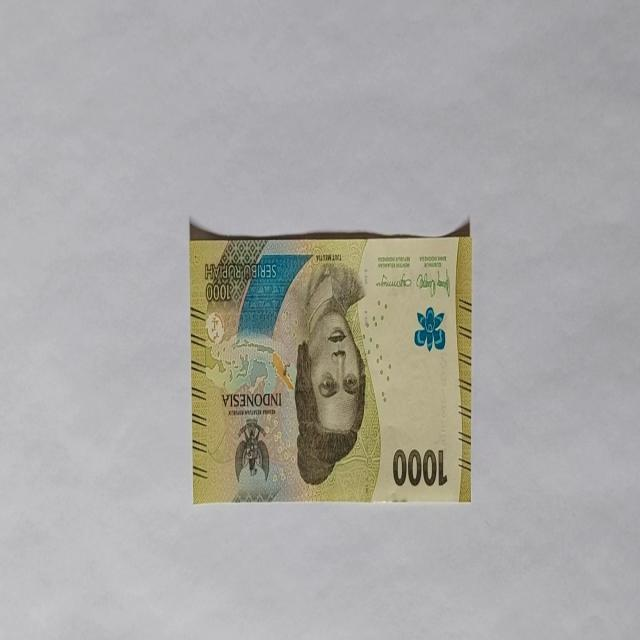seribu rupiah kertas: (190, 225, 472, 504)
